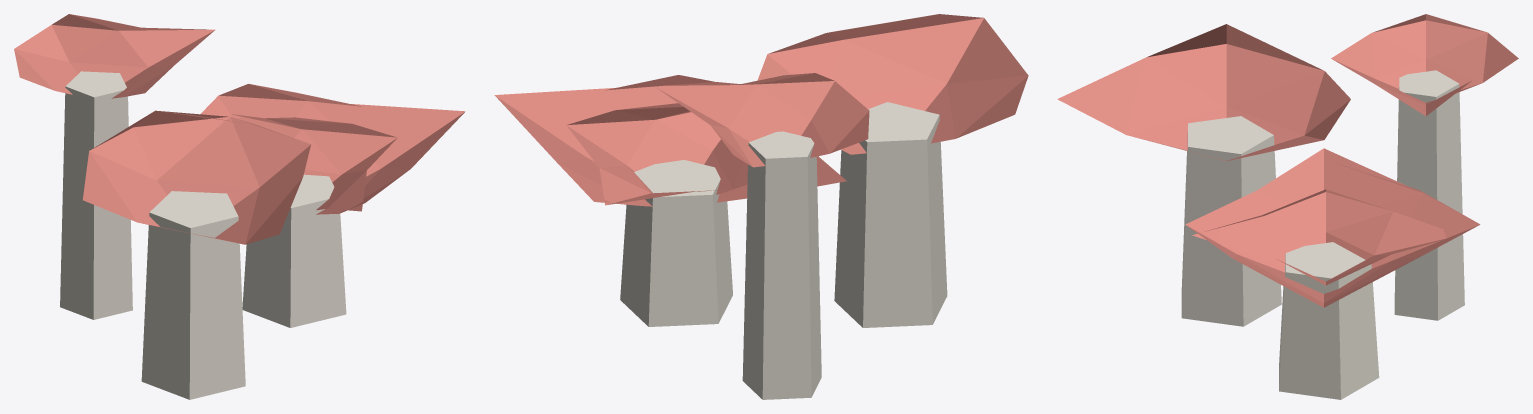
The model's file is mushroom_v38.glb.
3 views of the same model, side by side, from view 1: azimuth 30°, elevation 25°; view 2: azimuth 150°, elevation 25°; view 3: azimuth 270°, elevation 25° (orthographic). The views are drawn at different scales.
Parts seen in each view (by area): view 1: lod0; view 2: lod0; view 3: lod0.
Boxes of the visible parts, x1,y1,x2,y2 form: lod0: (14, 14, 465, 399); lod0: (494, 14, 1028, 399); lod0: (1057, 14, 1518, 399).
Size of what is drawn, in the model's own units: 0.6971 by 0.44 by 0.6423.
